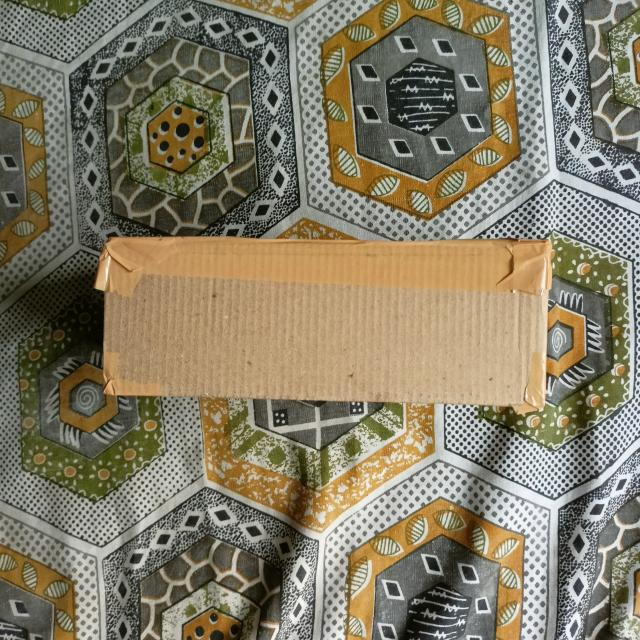box: (96, 237, 558, 417)
